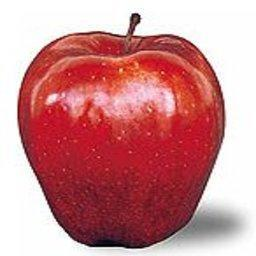apple: (18, 32, 226, 248)
